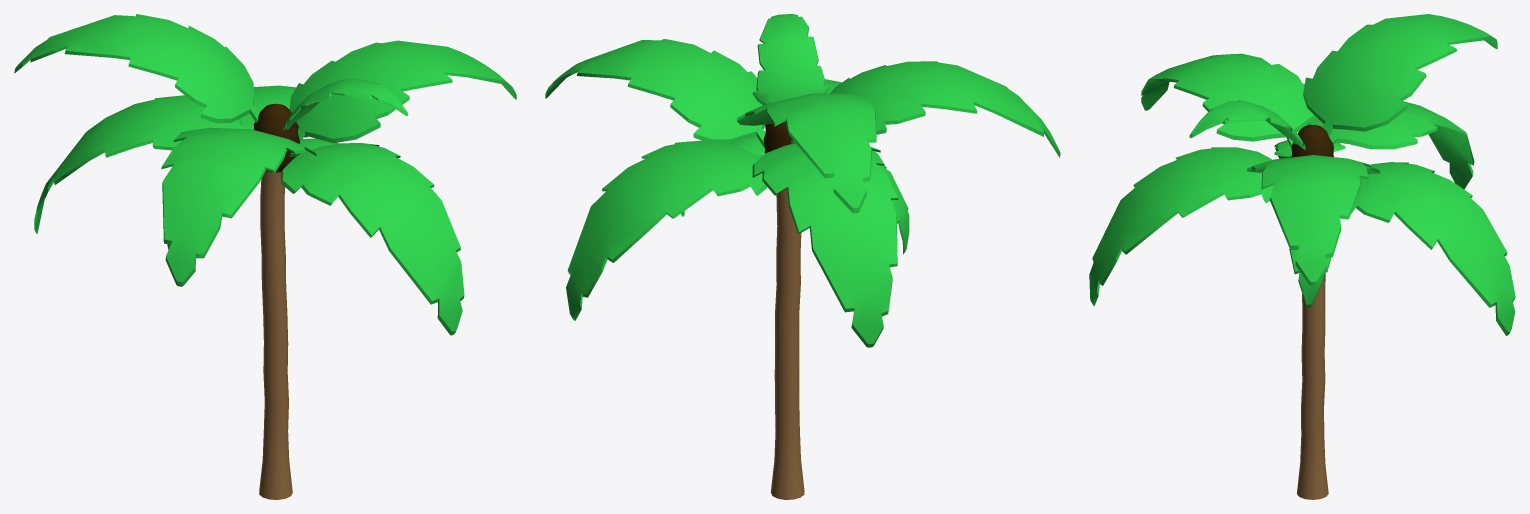
File: straightPalm_low.fbx
The picture shows the model from 3 angles, left to right: view 1: azimuth 30°, elevation 25°; view 2: azimuth 150°, elevation 25°; view 3: azimuth 270°, elevation 25°; orthographic projection. The views are drawn at different scales.
Visible parts, largest first — view 1: bigPalm_mid.001, trunk_low, smallPalm_mid.003, top; view 2: bigPalm_mid.001, trunk_low, smallPalm_mid.003, top; view 3: bigPalm_mid.001, trunk_low, smallPalm_mid.003, top.
Boxes of the visible parts, x1,y1,x2,y2 form: bigPalm_mid.001: (14, 14, 516, 335); trunk_low: (259, 171, 292, 499); smallPalm_mid.003: (167, 77, 408, 249); top: (253, 103, 299, 172); bigPalm_mid.001: (545, 39, 1060, 347); trunk_low: (770, 188, 804, 499); smallPalm_mid.003: (681, 14, 909, 254); top: (763, 123, 793, 153); bigPalm_mid.001: (1089, 14, 1515, 335); trunk_low: (1297, 273, 1328, 499); smallPalm_mid.003: (1189, 100, 1345, 306); top: (1291, 125, 1333, 157).
Size of the model in its own units: 15.25 by 15.24 by 13.94.
